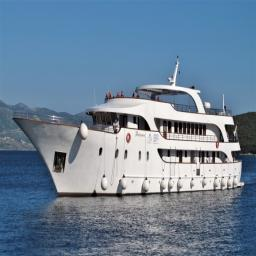cruises: (13, 56, 246, 203)
